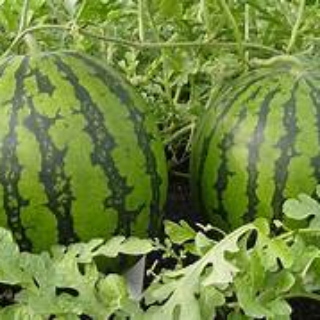dua_hau: (1, 46, 177, 286), (187, 61, 320, 252)
